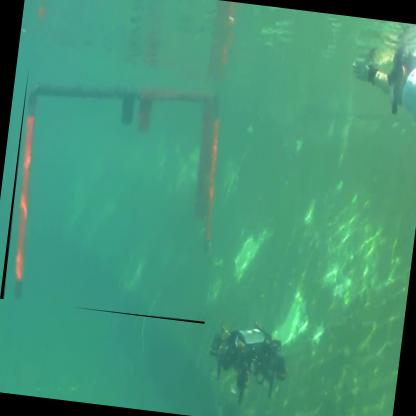gate: (1, 66, 235, 326)
